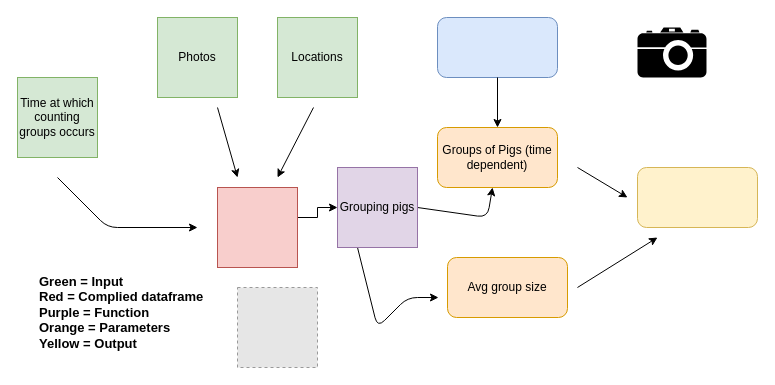
The diagram is 775 pixels wide and 385 high, and some of its shapes have lost their labels. Grey dashed boxes stand in for pictures. Here are the shapes that lost their labels. From the top down, the box of each, then its label:
(436, 16, 558, 78): Time Interval (parameter)
(636, 166, 758, 228): Abundance per location
(216, 186, 298, 268): Pig Dataframe
